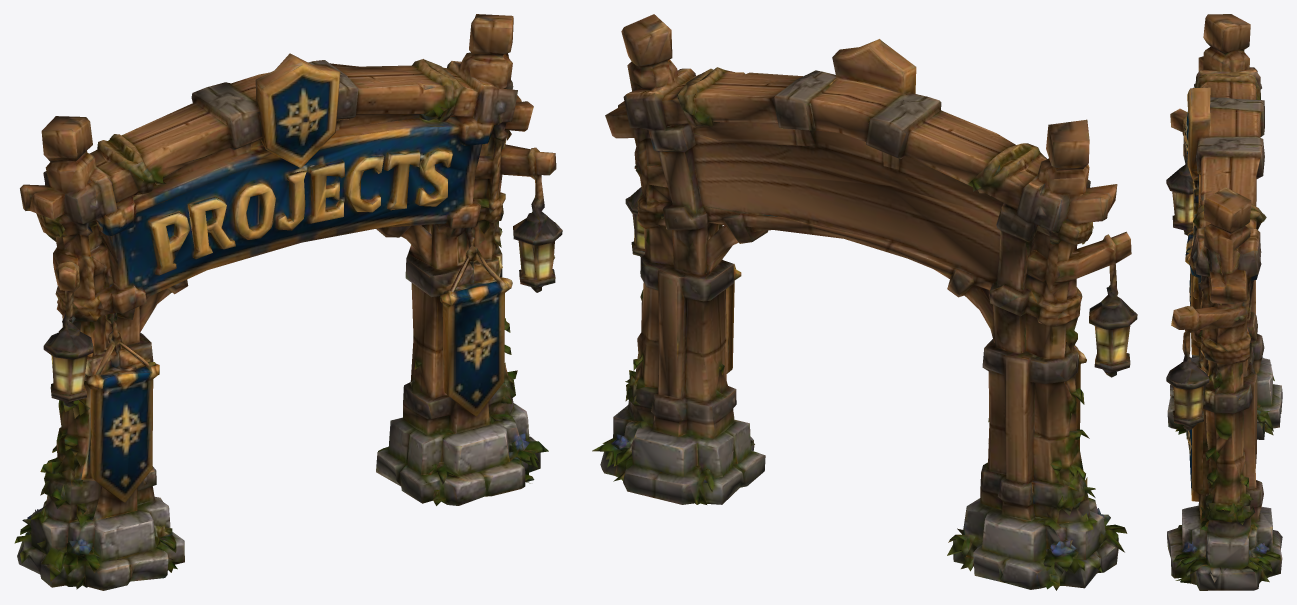
The model's file is arch-projects.glb.
The picture shows the model from 3 angles, left to right: view 1: azimuth 30°, elevation 25°; view 2: azimuth 150°, elevation 25°; view 3: azimuth 270°, elevation 25°; orthographic projection. The views are drawn at different scales.
Visible parts, largest first — view 1: Mesh1.0; view 2: Mesh1.0; view 3: Mesh1.0.
Part boxes in pixels (bbox=[...]): Mesh1.0: bbox=[14, 14, 562, 590]; Mesh1.0: bbox=[592, 14, 1137, 590]; Mesh1.0: bbox=[1166, 14, 1282, 590].
Bounding box in the file's own units: 1.9 × 1.67 × 0.4389.
1 material, 1 textured.
